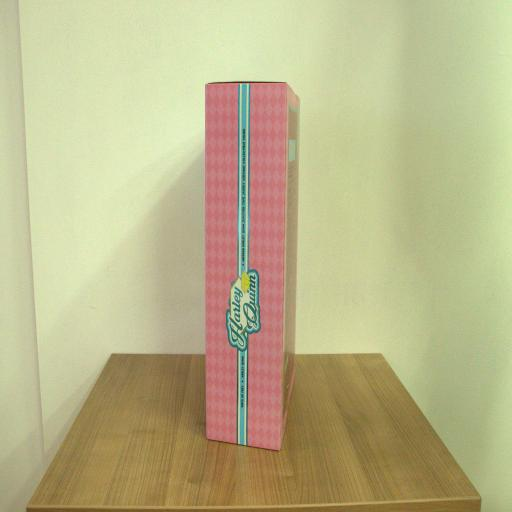Harley: (204, 81, 299, 456)
